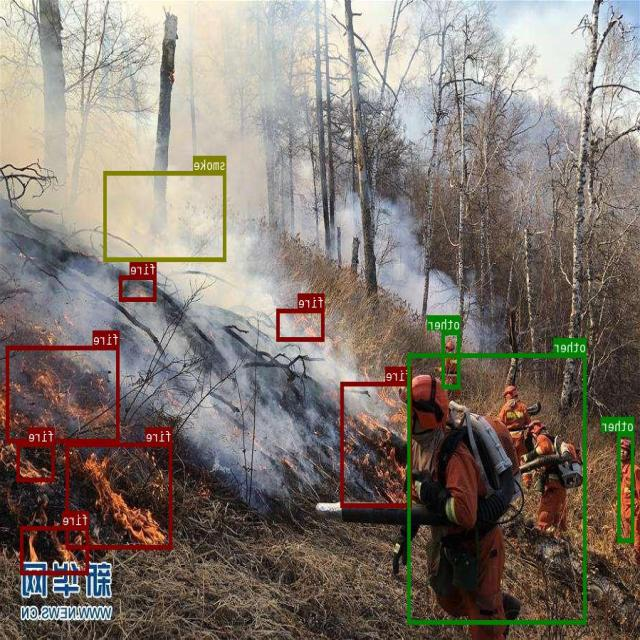fire: (66, 442, 173, 549), (7, 346, 120, 442), (341, 381, 413, 506), (21, 525, 90, 574), (277, 308, 325, 340), (18, 442, 56, 481), (120, 275, 156, 300)
other: (408, 352, 587, 624), (618, 432, 635, 542), (443, 330, 461, 388)
smoke: (104, 170, 227, 261)
